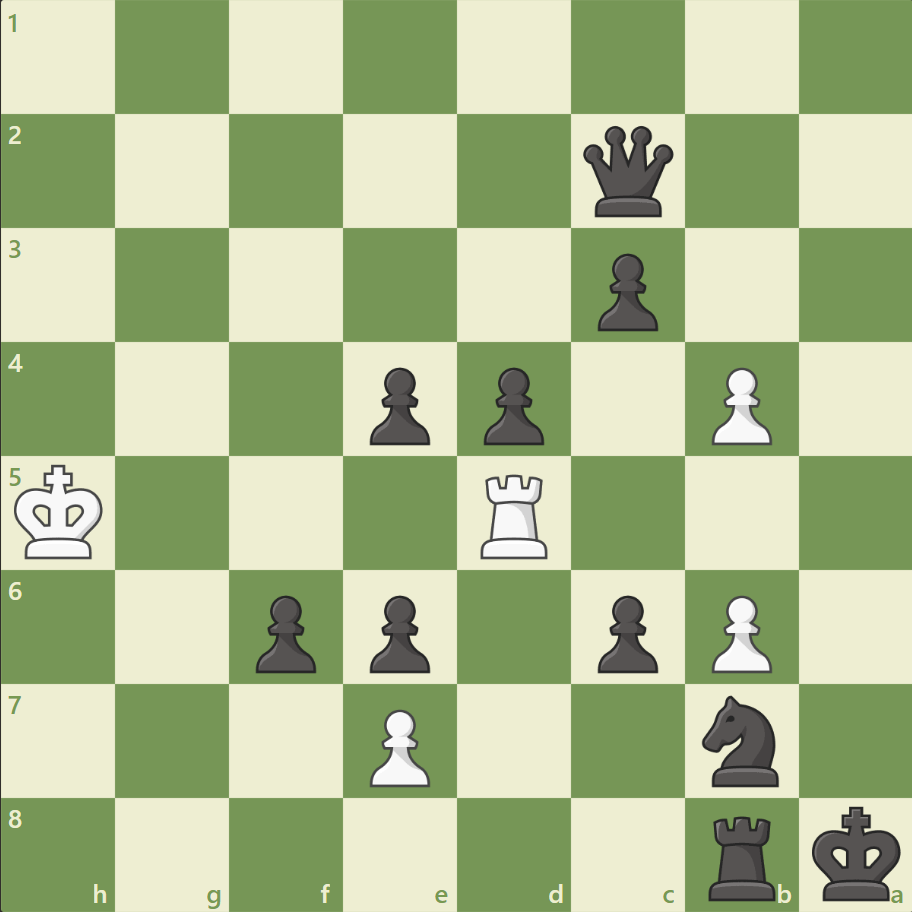K: (11, 458, 111, 566)
P: (701, 586, 776, 677), (701, 359, 776, 450), (361, 700, 435, 791)
R: (473, 466, 556, 563)
k: (806, 798, 906, 906)
n: (692, 688, 789, 791)
p: (247, 586, 322, 677), (474, 359, 549, 450), (588, 586, 662, 677), (361, 586, 435, 677), (361, 359, 435, 450), (588, 246, 662, 337)
q: (578, 122, 677, 222)
r: (700, 806, 783, 904)
